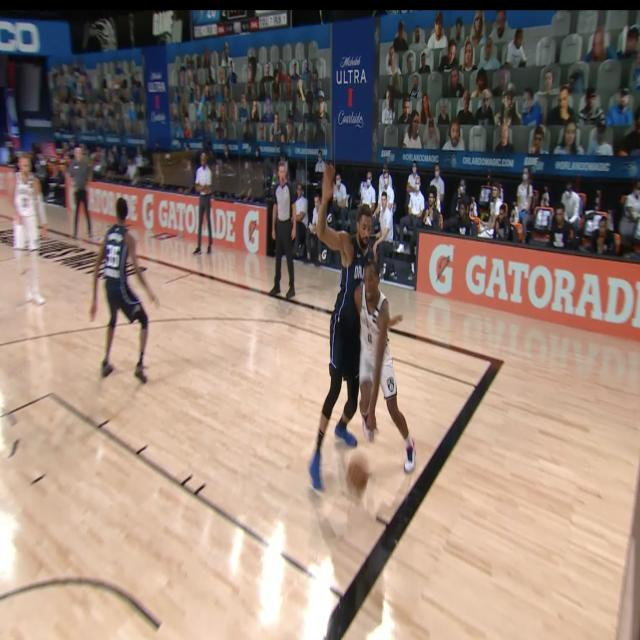Foul: (308, 193, 418, 486)
